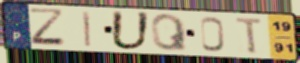0: (199, 16, 227, 53)
I: (81, 10, 92, 48)
Q: (149, 13, 190, 52)
T: (234, 16, 265, 55)
U: (110, 9, 153, 52)
Z: (27, 6, 69, 48)
